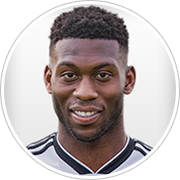face: (41, 48, 137, 130)
